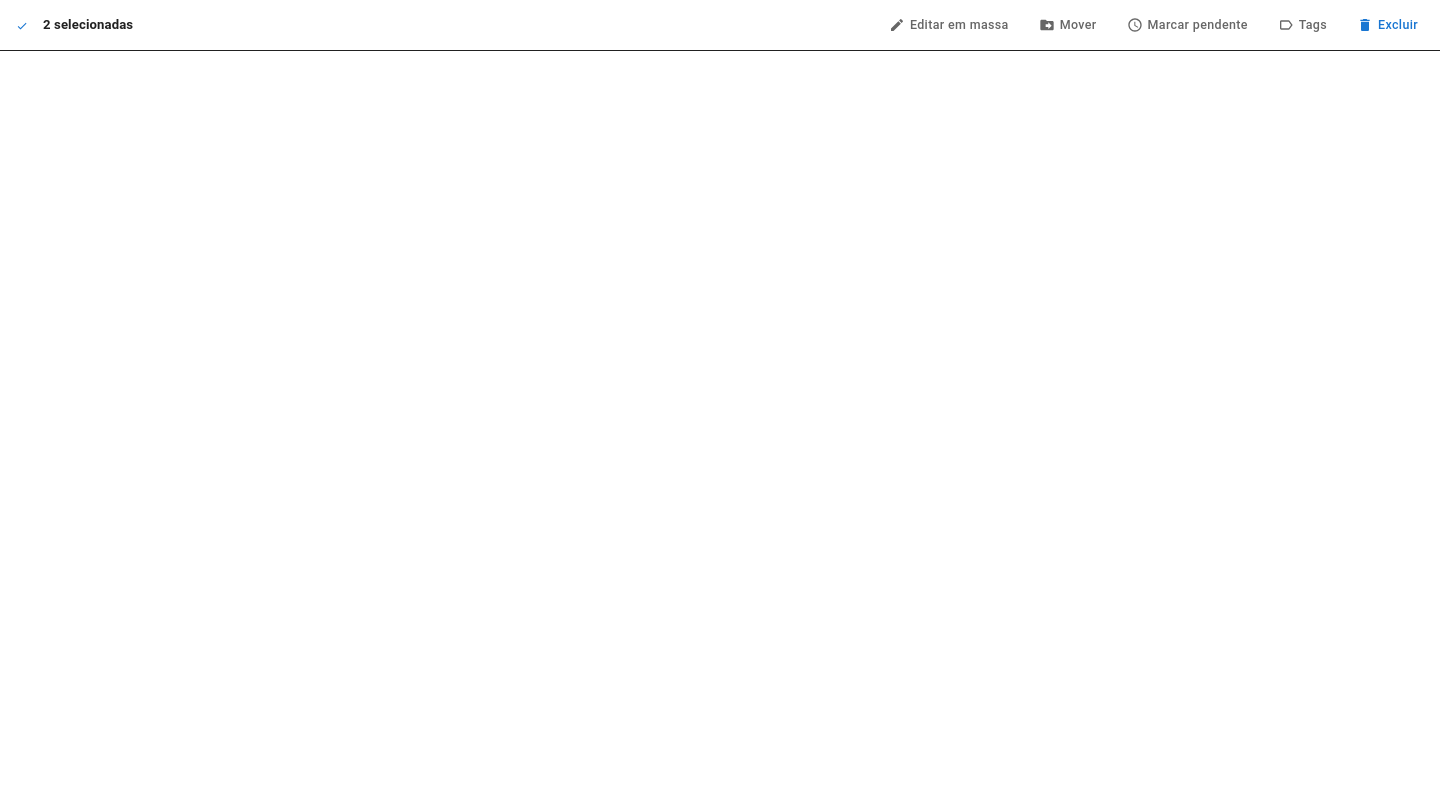
BulkActionBar › "Mover" abre a MoveTransactionsDialog
Click the button "Mover" at [1068, 25], box [1031,10,1105,40]
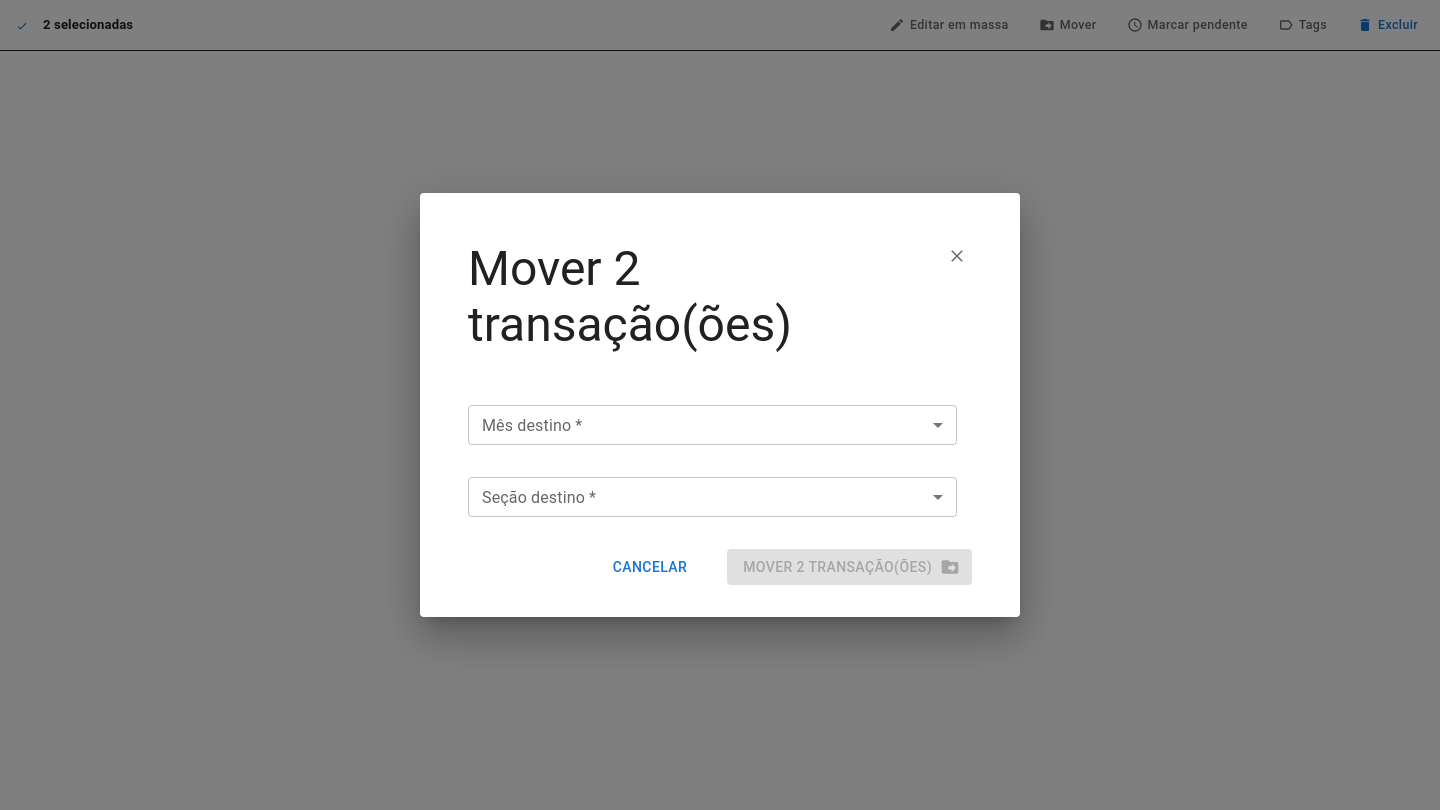
Check: the dialog is shown, box [420,193,1020,617]
